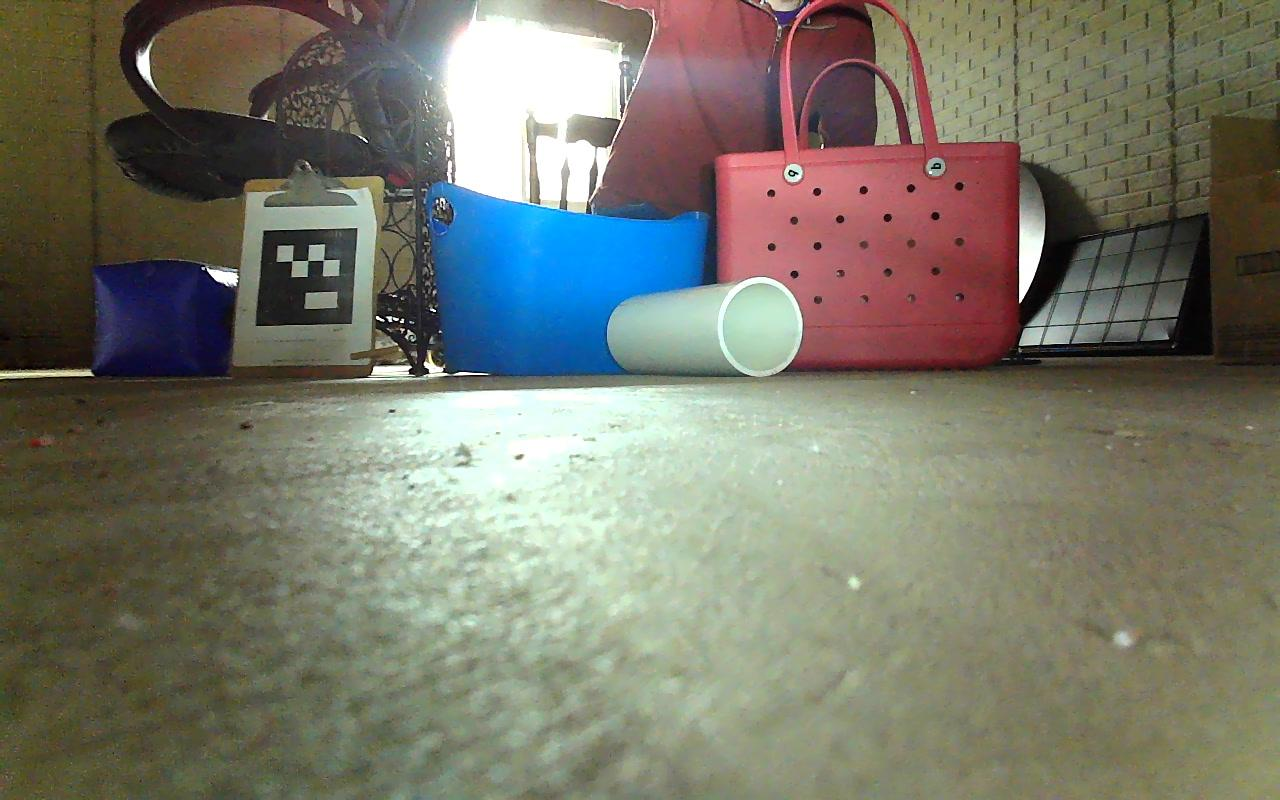coral: (608, 275, 802, 376)
